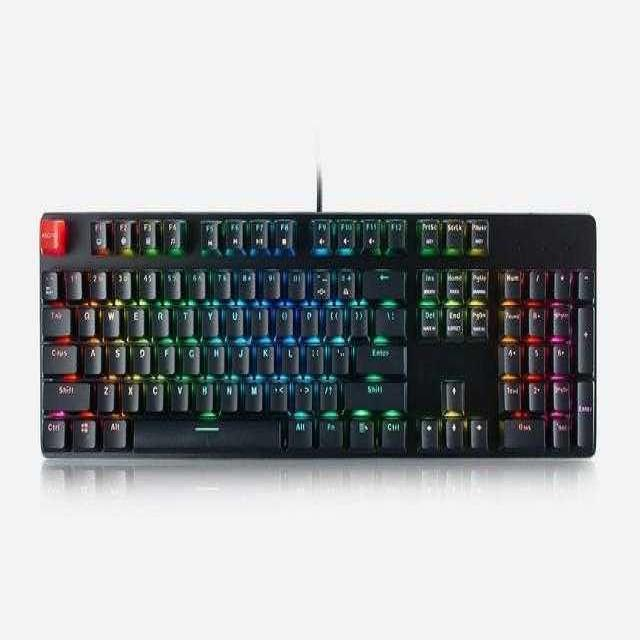keyboard: (36, 207, 600, 464)
